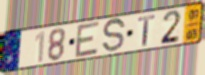1: (34, 30, 46, 64)
2: (160, 9, 182, 45)
8: (47, 27, 67, 62)
E: (74, 20, 102, 60)
S: (101, 17, 127, 55)
T: (137, 13, 156, 48)
